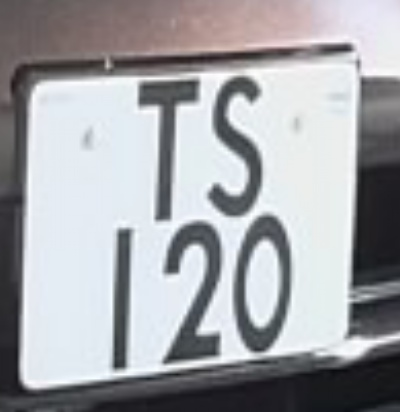0: (226, 206, 306, 359)
1: (88, 216, 152, 380)
2: (148, 213, 236, 372)
S: (200, 66, 281, 219)
T: (111, 69, 215, 226)
